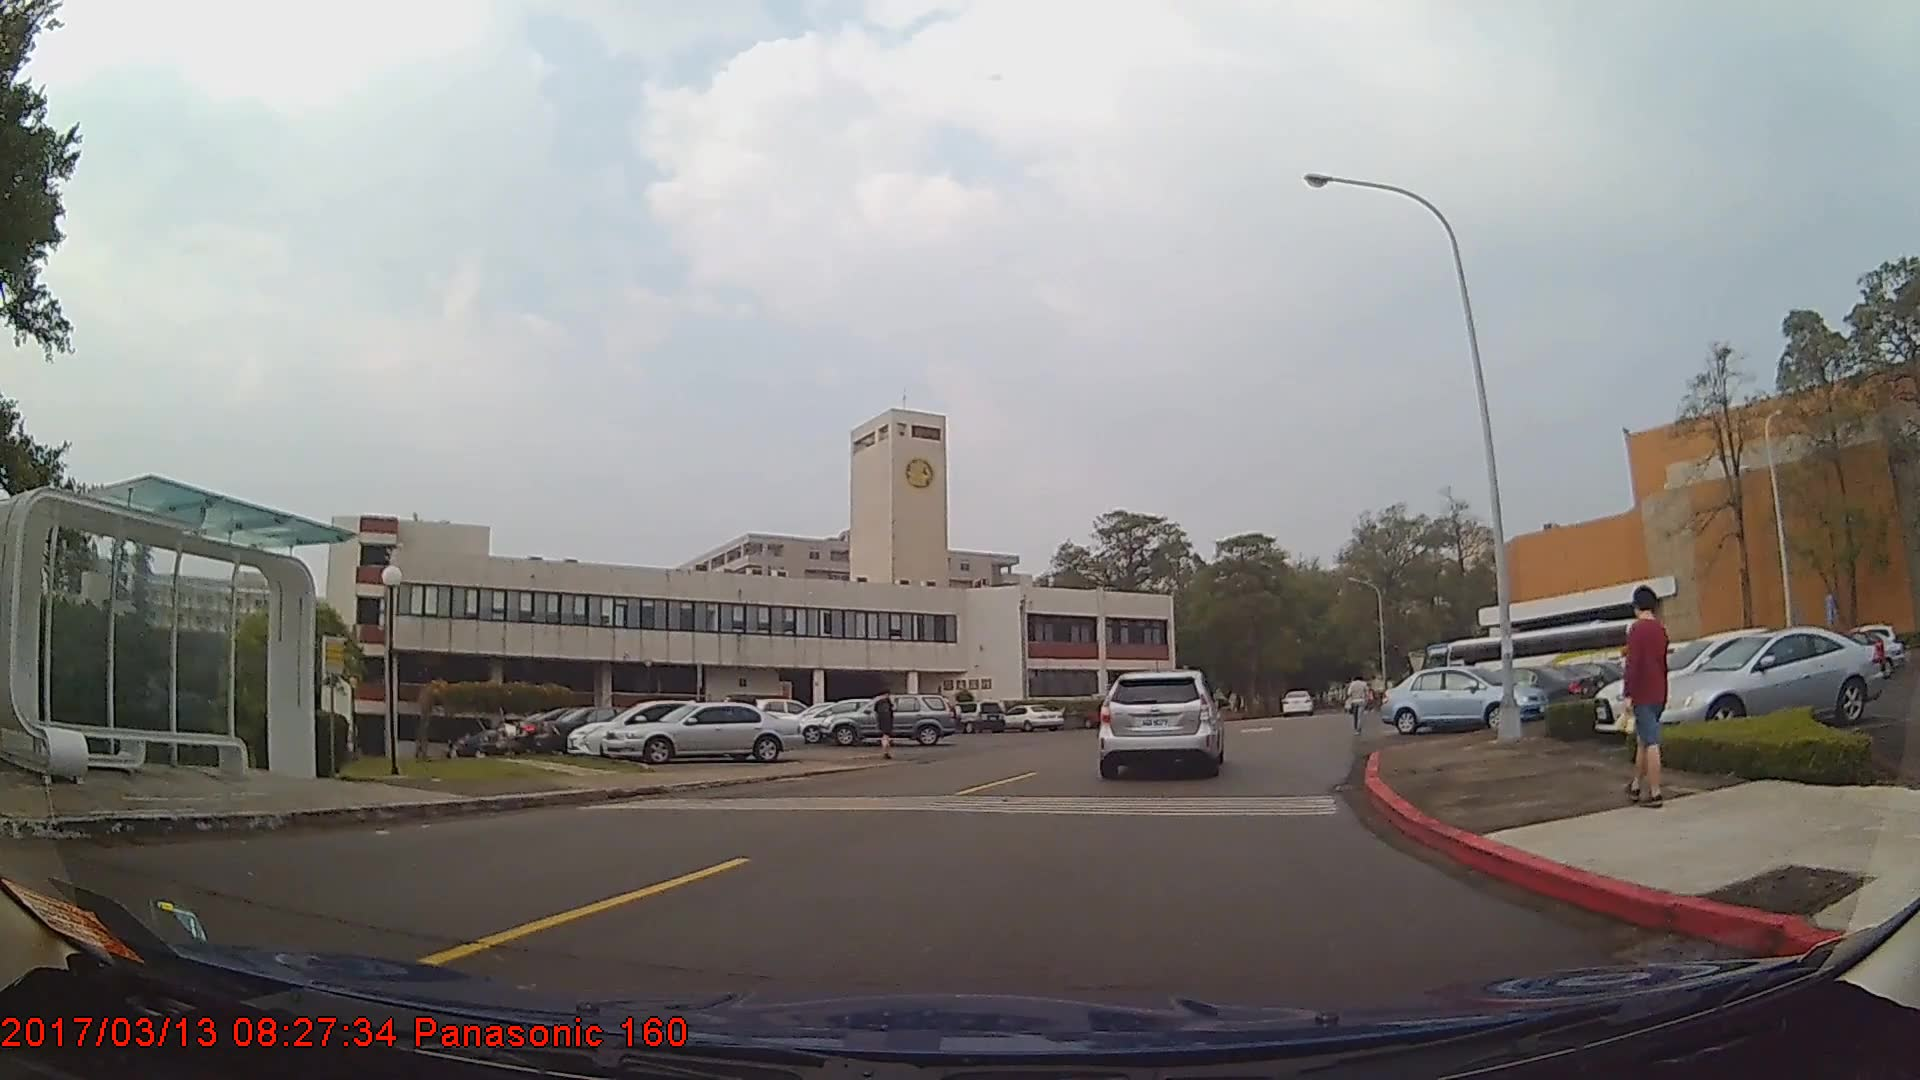pedestrian: (1622, 585, 1676, 811), (1345, 668, 1373, 734), (874, 688, 900, 759)
vehicle: (1593, 628, 1840, 733), (1650, 622, 1886, 731), (1099, 667, 1222, 780), (603, 701, 805, 763), (563, 694, 763, 755), (1375, 664, 1548, 735), (534, 702, 679, 755), (825, 692, 962, 744), (942, 698, 1007, 733), (996, 701, 1064, 732), (1281, 687, 1315, 717)
